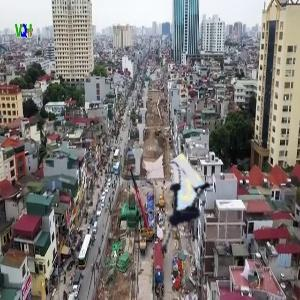drone: (130, 168, 229, 267)
